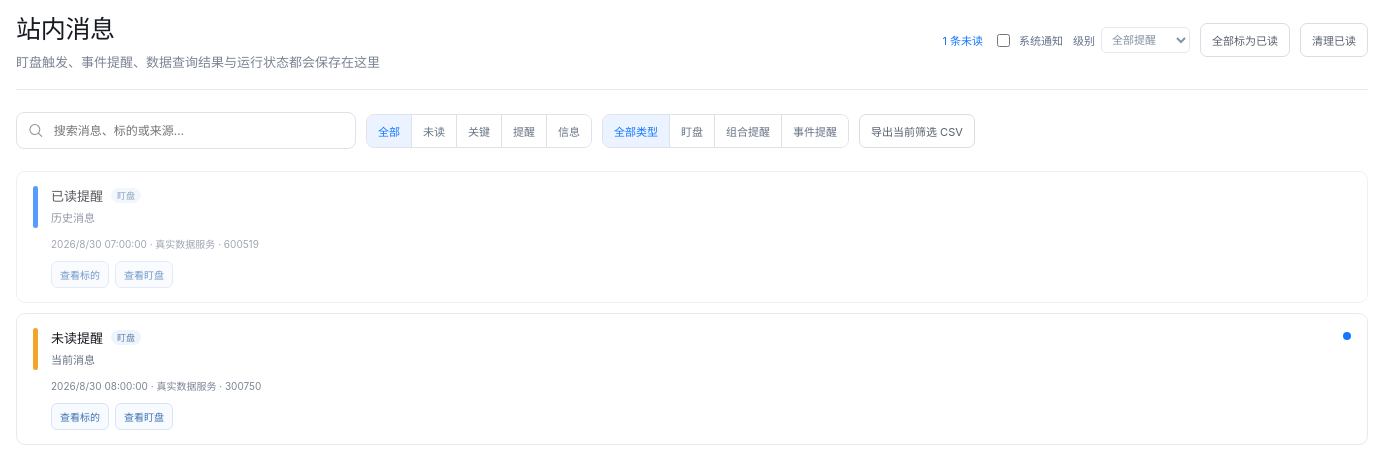
Test: FolioMind core flows › exposes notification history management without removing unread items
This screenshot has width=1385, height=462.
Expected: the button "导出当前筛选 CSV" is enabled, [859, 114, 975, 148]
Click the button "清理已读" at (1334, 40), box [1300, 23, 1368, 57]
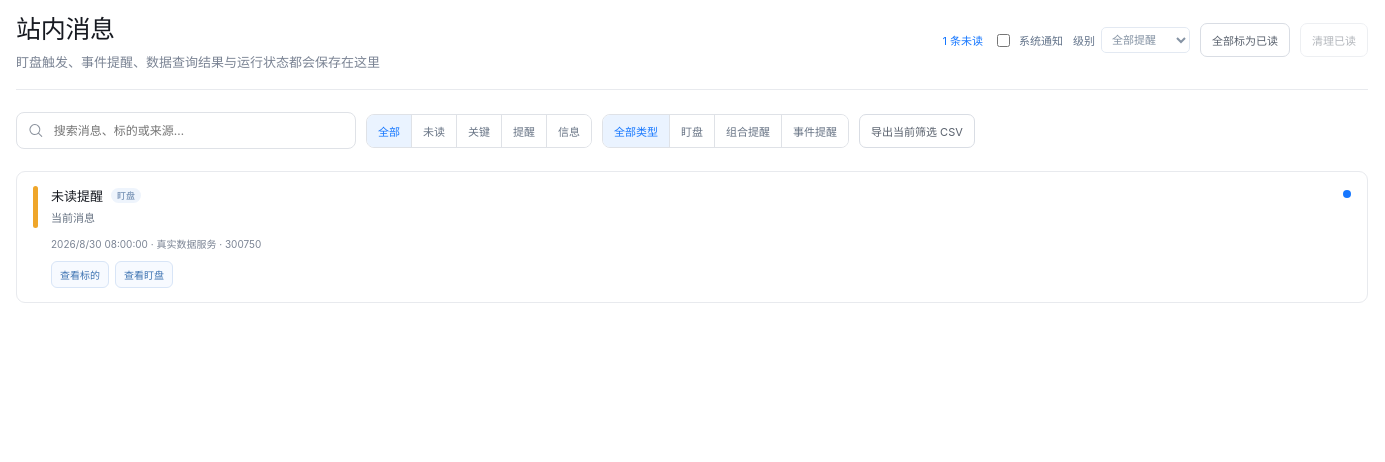
Expected: the text "未读提醒" is shown, [51, 186, 103, 205]
Expected: the button "已读提醒" is gone
